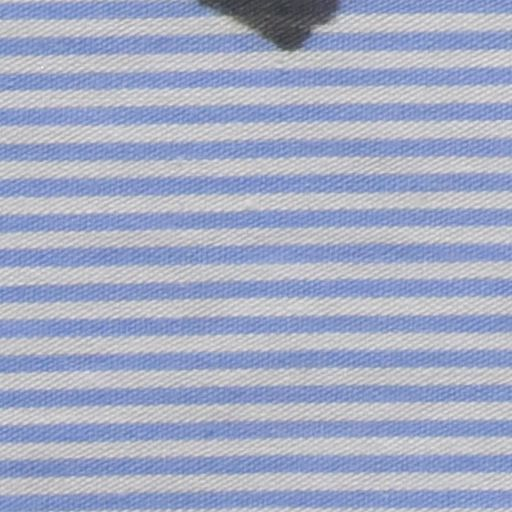defect: (224, 1, 331, 51)
